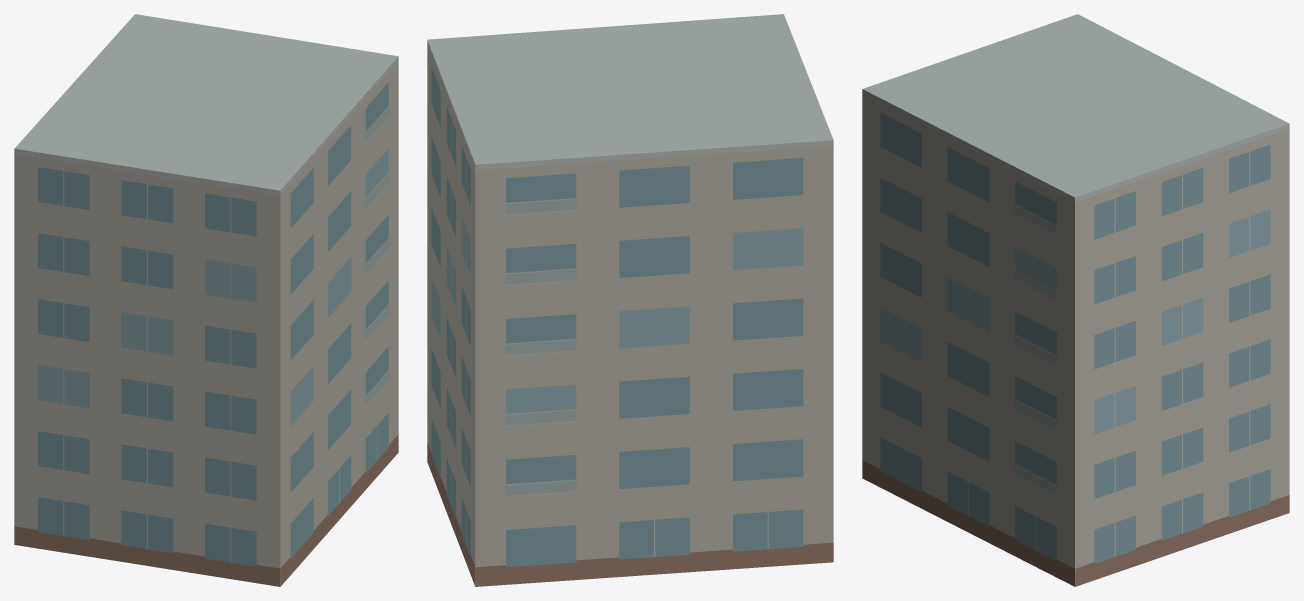
The model's file is survey-upis-33007729.glb.
3 views of the same model, side by side, from view 1: azimuth 30°, elevation 25°; view 2: azimuth 150°, elevation 25°; view 3: azimuth 270°, elevation 25° (orthographic). The views are drawn at different scales.
Parts seen in each view (by area): view 1: survey-upis-33007729.tmp; view 2: survey-upis-33007729.tmp; view 3: survey-upis-33007729.tmp.
Boxes of the visible parts, left/top/right/bottom form: survey-upis-33007729.tmp: left=14, top=14, right=398, bottom=586; survey-upis-33007729.tmp: left=427, top=14, right=833, bottom=586; survey-upis-33007729.tmp: left=862, top=14, right=1289, bottom=586.
Bounding box in the file's own units: 18.61 × 18.4 × 18.31.
